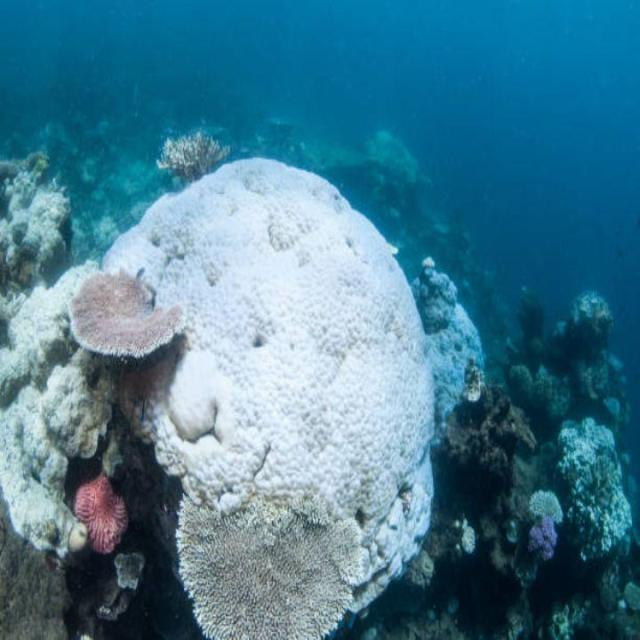Bleached: (128, 157, 441, 517)
